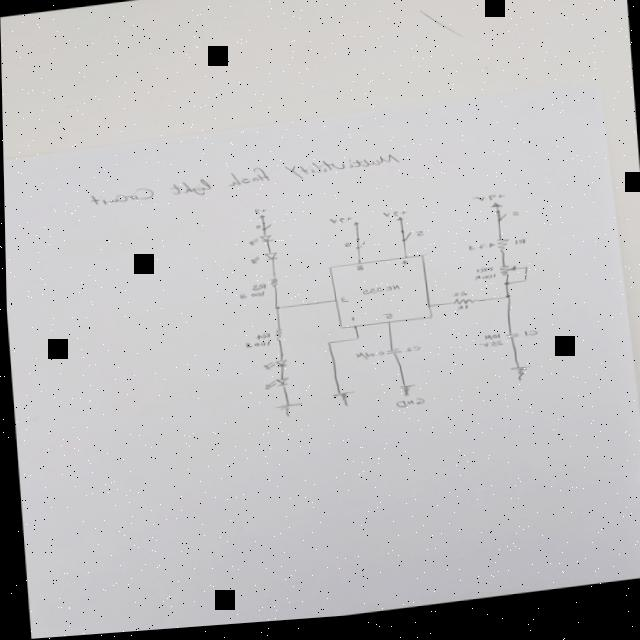capacitor: (383, 352, 401, 360), (503, 339, 518, 347)
diode: (261, 381, 288, 393), (247, 237, 273, 249), (248, 255, 276, 266), (261, 363, 286, 373)
ground: (329, 395, 355, 412), (272, 406, 301, 421), (507, 373, 531, 389), (396, 388, 415, 402)
junction: (500, 288, 508, 292), (502, 301, 510, 305), (273, 308, 281, 312), (325, 345, 330, 348), (354, 341, 358, 344), (522, 286, 526, 289), (522, 273, 526, 275)
resistor: (494, 244, 509, 260), (497, 271, 515, 283), (451, 303, 475, 311), (271, 331, 281, 346), (268, 281, 277, 292)
source: (488, 207, 502, 215), (393, 221, 403, 226), (257, 217, 265, 221), (351, 226, 359, 230)
switch: (397, 234, 411, 247), (493, 215, 506, 229), (352, 241, 365, 254), (260, 224, 270, 234)
text: (88, 153, 400, 210), (359, 288, 400, 299), (393, 402, 423, 414), (469, 199, 504, 209), (353, 354, 382, 366), (242, 343, 268, 352), (466, 249, 494, 257), (471, 278, 495, 287), (237, 294, 263, 302), (381, 215, 406, 223), (327, 220, 351, 228), (476, 347, 501, 354), (482, 339, 499, 347), (249, 286, 265, 294), (253, 335, 269, 343), (521, 336, 537, 344), (450, 296, 466, 304), (474, 272, 492, 279), (252, 210, 266, 218), (402, 351, 418, 357), (380, 317, 392, 325), (512, 245, 524, 253), (453, 310, 466, 317), (413, 235, 423, 243), (339, 300, 348, 307), (399, 265, 407, 271), (354, 269, 362, 275), (510, 218, 518, 223), (341, 247, 350, 251), (348, 321, 354, 326), (254, 228, 261, 232)
